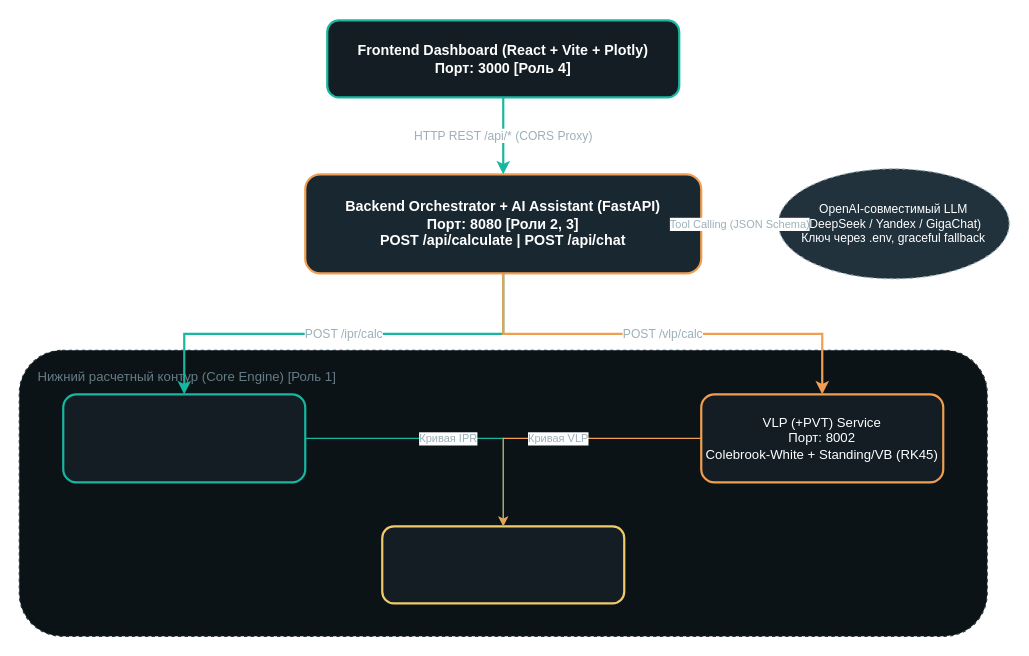
This 1029x656 diagram has some shape labels left out. Each missing label, with the box of its shape:
IPR Service Порт: 8003 Composite Brown (1984): (62, 393, 306, 483)
Nodal Service Порт: 8004 Попарное пересечение отрезков: (381, 525, 625, 604)
